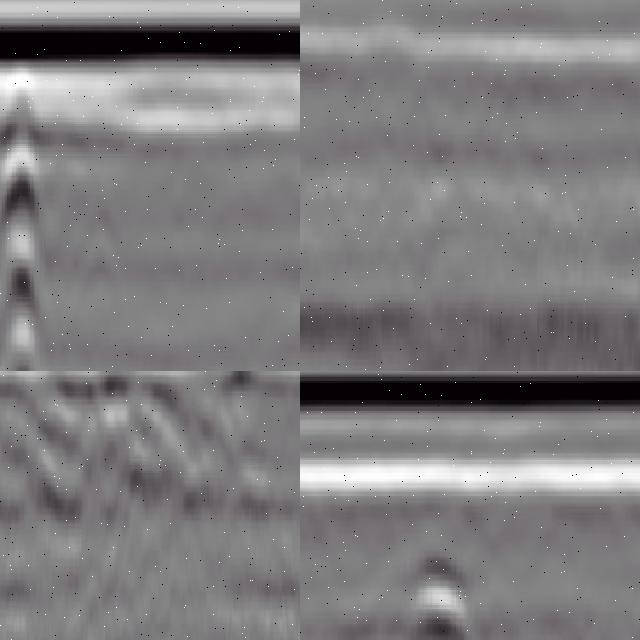crack: (1, 71, 48, 372)
loose: (1, 372, 263, 510), (395, 567, 511, 640)
